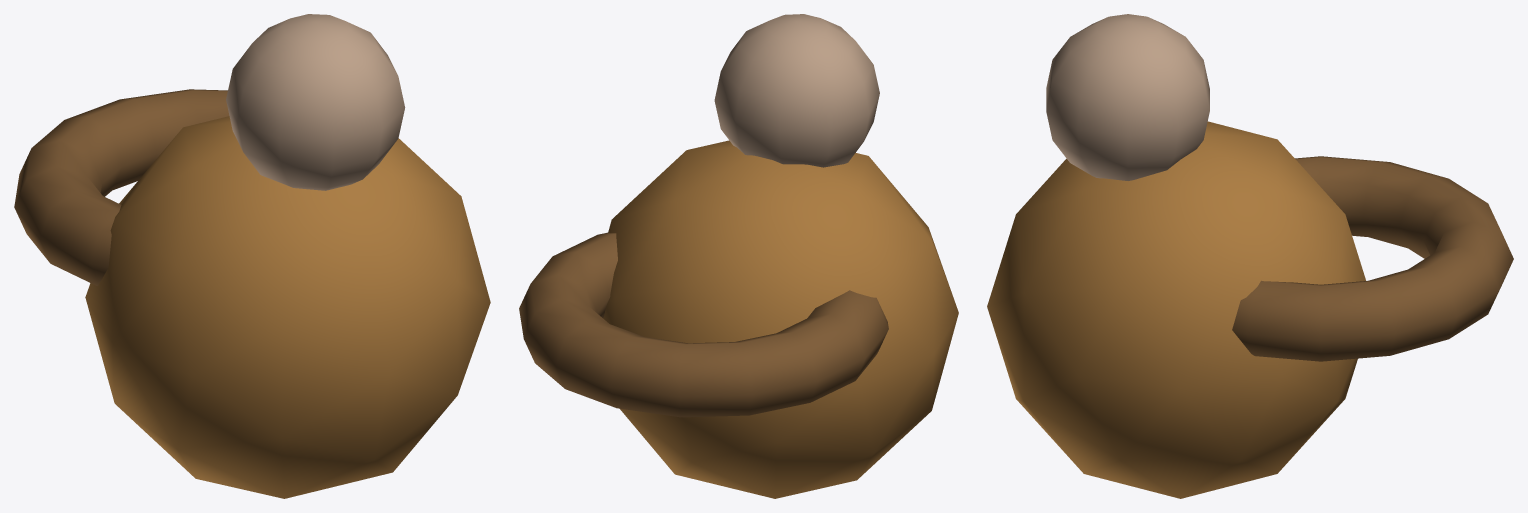
File: clockwork_monster_1.glb
3 views of the same model, side by side, from view 1: azimuth 30°, elevation 25°; view 2: azimuth 150°, elevation 25°; view 3: azimuth 270°, elevation 25° (orthographic). The views are drawn at different scales.
Visible parts, largest first — view 1: CoreBody, Head, MOTIF_clockwork_gear; view 2: CoreBody, MOTIF_clockwork_gear, Head; view 3: CoreBody, MOTIF_clockwork_gear, Head.
Boxes of the visible parts, <box> form: CoreBody: <box>85,116,490,498</box>; Head: <box>226,14,405,190</box>; MOTIF_clockwork_gear: <box>14,89,229,285</box>; CoreBody: <box>603,140,958,498</box>; MOTIF_clockwork_gear: <box>519,232,888,417</box>; Head: <box>714,14,879,167</box>; CoreBody: <box>987,121,1365,498</box>; MOTIF_clockwork_gear: <box>1232,156,1513,361</box>; Head: <box>1046,14,1209,180</box>.
Bounding box in the file's own units: 1.32 × 1.74 × 1.8.
